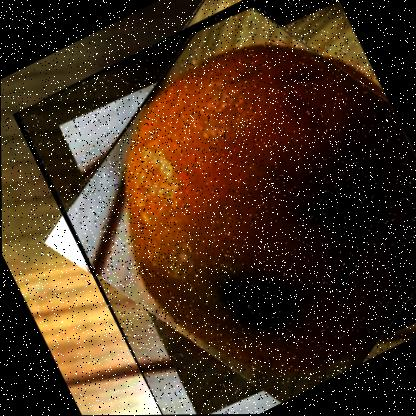orange_rotten: (10, 0, 415, 415)
